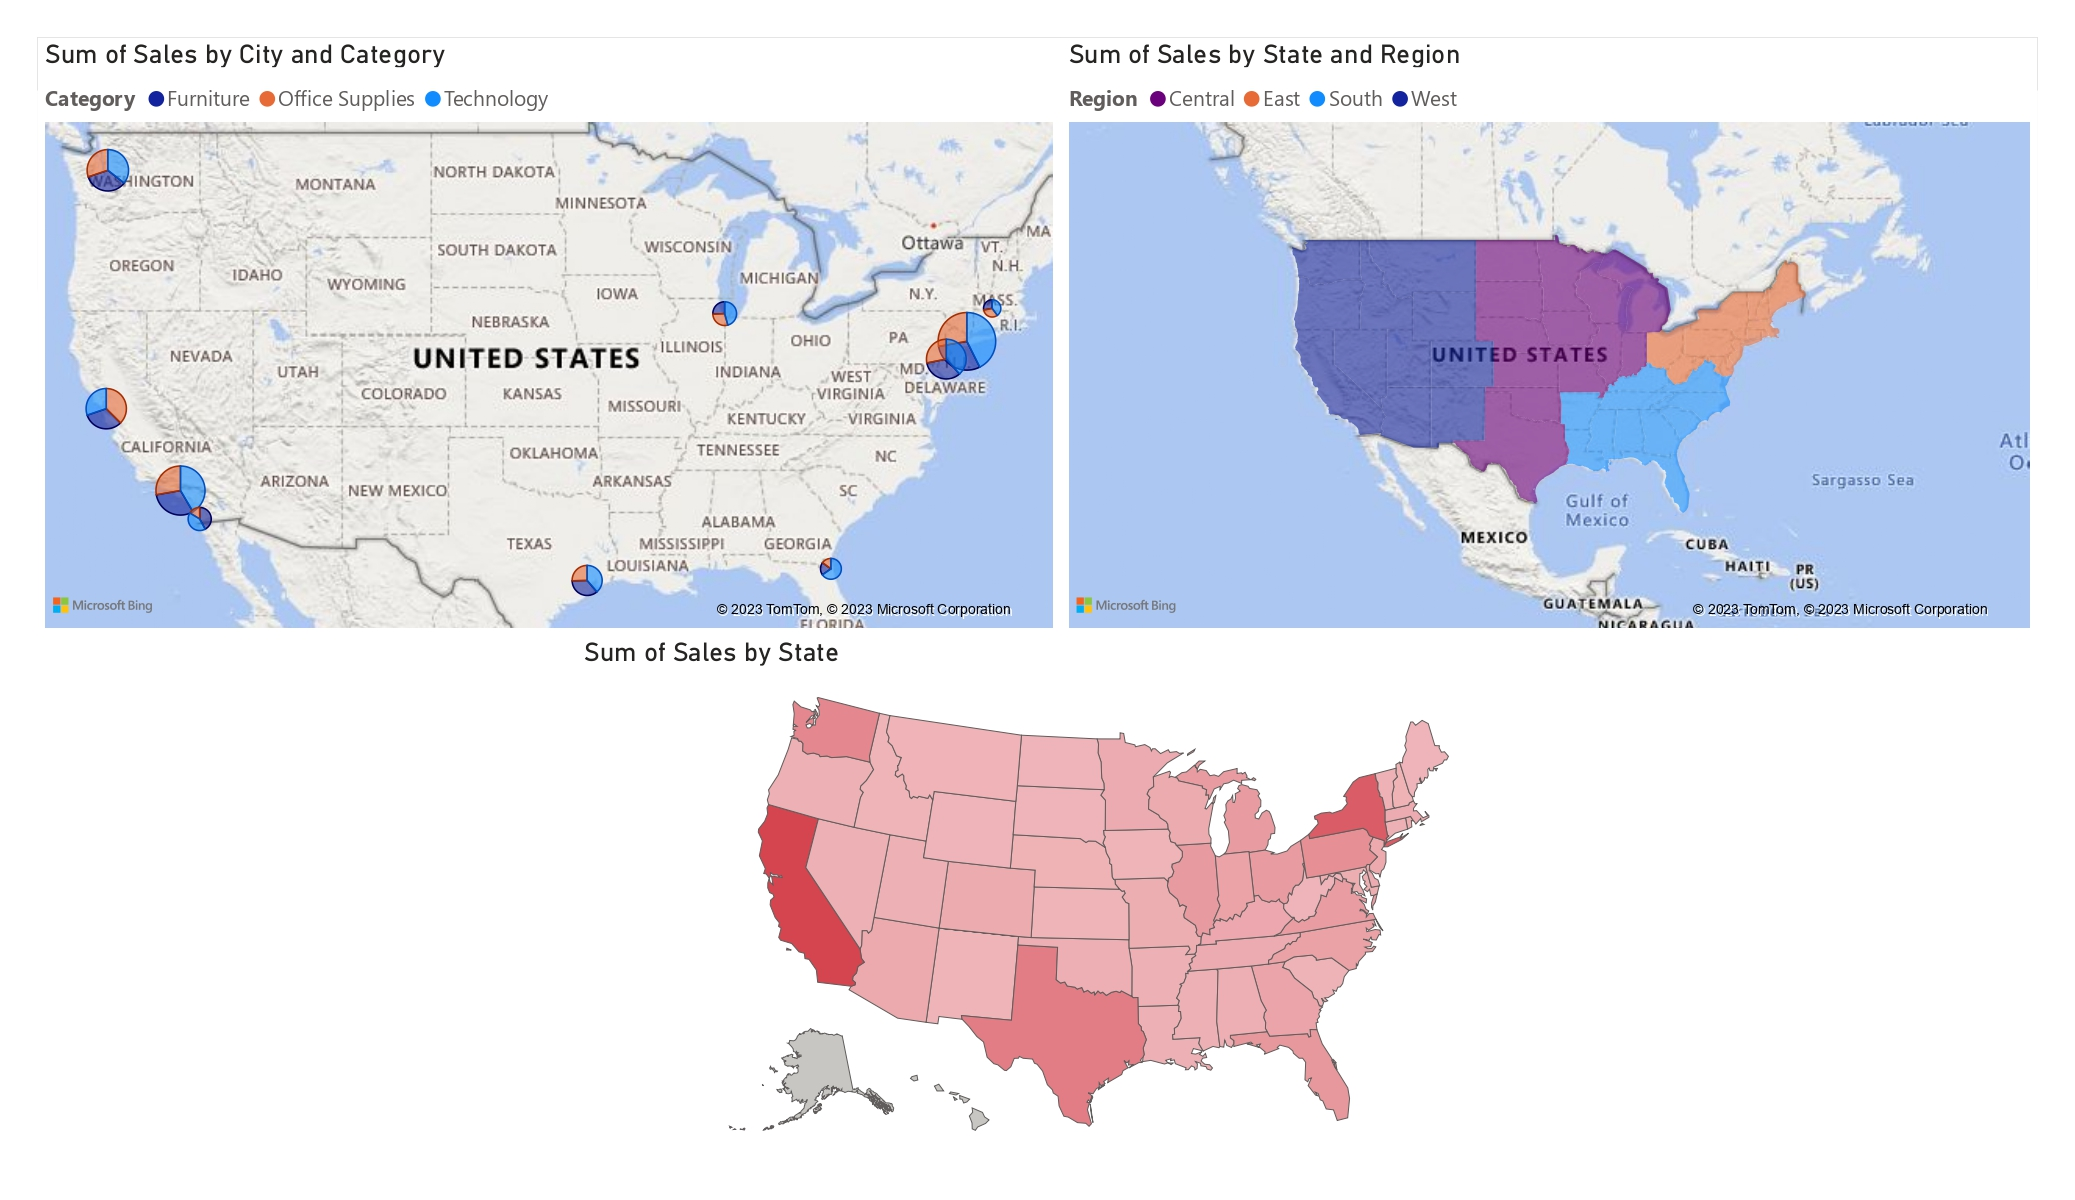

The dashboard page shown, as its layout file describes it:
{"tool":"powerbi","page":{"name":"Page 1","canvas":[1280,720],"ordinal":0},"visuals":[{"type":"map","fields":{"Size":["Sum(Orders.Sales)"],"Category":["Orders.City"],"Series":["Orders.Category"]},"box":[0,0,655.2,383],"z":0},{"type":"filledMap","fields":{"Category":["Orders.State"],"Series":["Orders.Region"]},"box":[655.2,0,624.5,383],"z":1000},{"type":"shapeMap","fields":{"Value":["Sum(Orders.Sales)"],"Category":["Orders.State"]},"box":[345.4,383,655.2,337.5],"z":2000}]}

Visuals, with their boxes on the page's 1280x720 design canvas (x1, y1, x2, y2). These are canvas units, not pixel positions in the 2075x1200 screenshot, which may show the page scaled, cropped or inside an application window:
map - Sum(Orders.Sales) x Orders.City: bbox=[0, 0, 655, 383]
filledMap - Orders.State x Orders.Region: bbox=[655, 0, 1280, 383]
shapeMap - Sum(Orders.Sales) x Orders.State: bbox=[345, 383, 1001, 720]
